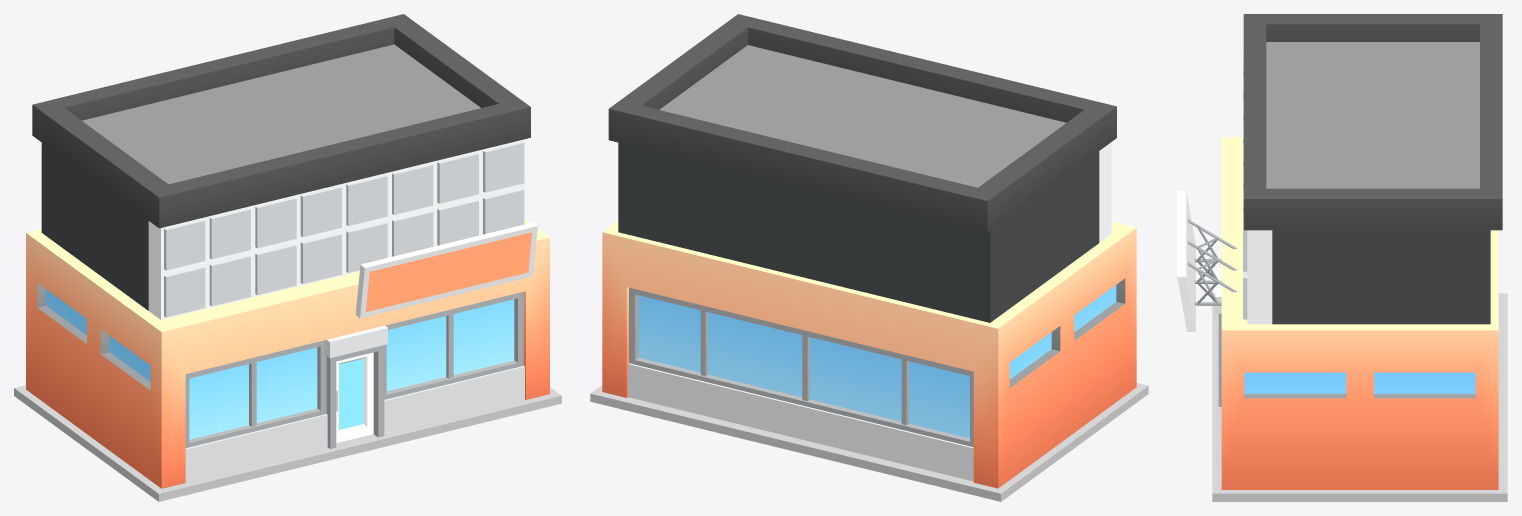
File: Building_Supermarket_03.glb
3 renders of one model, left to right at view 1: azimuth 30°, elevation 25°; view 2: azimuth 150°, elevation 25°; view 3: azimuth 270°, elevation 25°, orthographic. The views are drawn at different scales.
Visible parts, largest first — view 1: Building_Supermarket_03; view 2: Building_Supermarket_03; view 3: Building_Supermarket_03.
Boxes of the visible parts, <box> form: Building_Supermarket_03: <box>14,14,561,501</box>; Building_Supermarket_03: <box>590,14,1148,501</box>; Building_Supermarket_03: <box>1177,14,1507,501</box>.
Size of the model in its own units: 10.53 by 7.22 by 7.33.
1 material, 1 textured.
